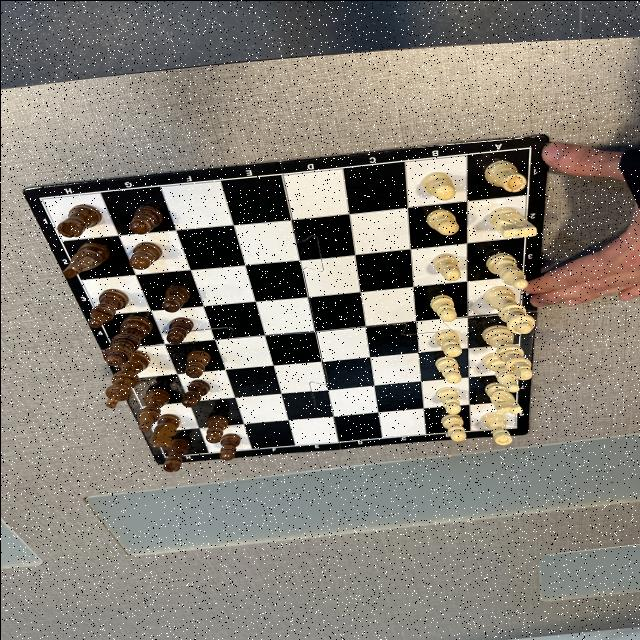Black-Bishop: (86, 288, 128, 327), (137, 388, 169, 430)
Black-King: (104, 350, 150, 408)
Black-Knight: (61, 241, 109, 278), (148, 412, 180, 450)
Black-Pawn: (128, 205, 162, 233), (128, 241, 162, 269), (162, 284, 190, 312), (180, 378, 208, 406), (166, 316, 193, 344), (184, 349, 210, 377), (205, 414, 228, 442), (218, 432, 240, 460)
Black-Queen: (102, 315, 152, 365)
Black-Rook: (56, 204, 100, 236), (162, 438, 190, 472)
White-Bishop: (484, 252, 528, 288), (481, 352, 519, 392)
White-King: (480, 325, 532, 379)
White-Knight: (487, 205, 537, 237), (484, 382, 522, 414)
White-Pawn: (421, 172, 455, 200), (424, 208, 458, 234), (431, 252, 460, 280), (428, 294, 456, 322), (433, 328, 461, 356), (434, 386, 460, 414), (440, 413, 466, 441), (434, 356, 461, 382)
White-Queen: (483, 285, 535, 333)
White-Rook: (482, 159, 526, 191), (481, 410, 512, 444)
